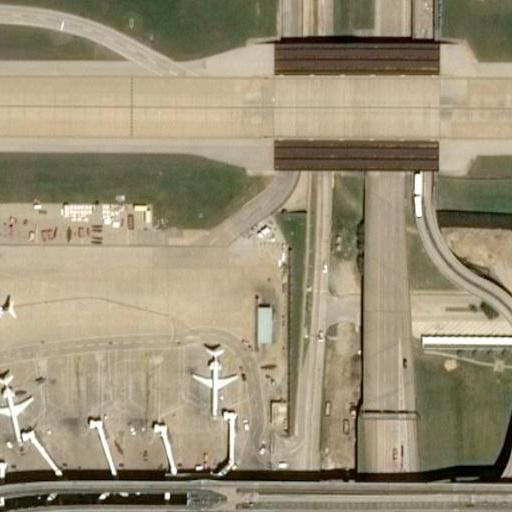Aircraft: (185, 334, 240, 409), (0, 367, 31, 431), (0, 284, 16, 341)
